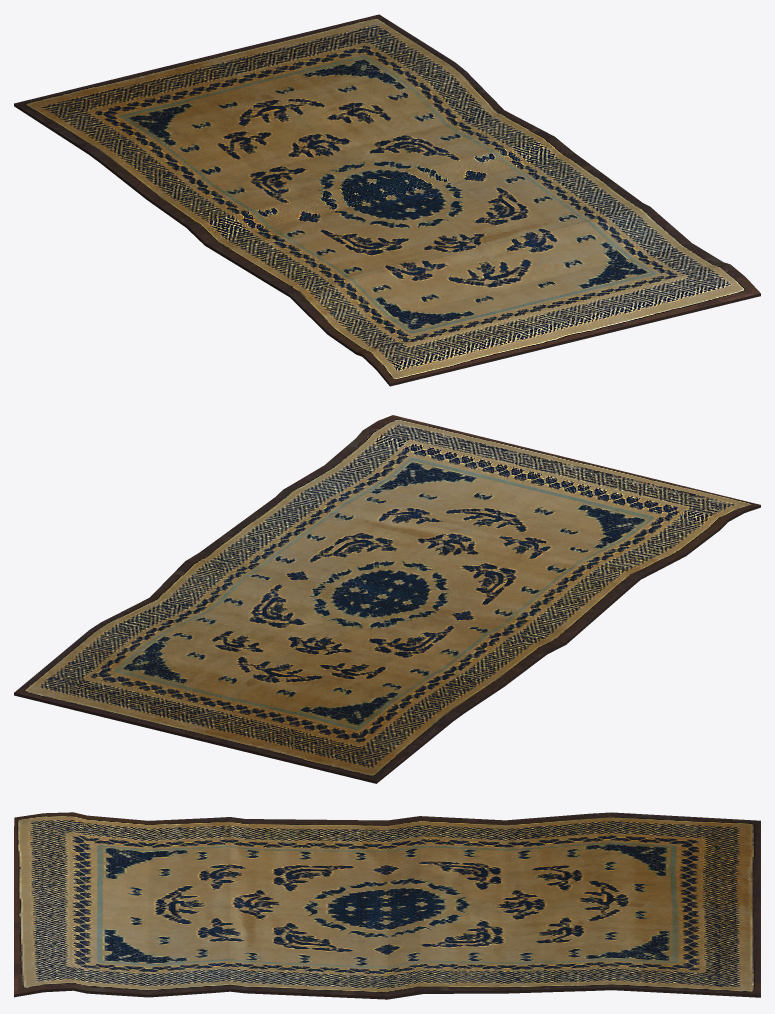
The model's file is Rug_1_JBischer.fbx.
3 views of the same model, one above another, from view 1: azimuth 30°, elevation 25°; view 2: azimuth 150°, elevation 25°; view 3: azimuth 270°, elevation 25° (orthographic). The views are drawn at different scales.
Visible parts, largest first — view 1: Cylinder.001; view 2: Cylinder.001; view 3: Cylinder.001.
Boxes of the visible parts, x1,y1,x2,y2 form: Cylinder.001: [14, 14, 760, 386]; Cylinder.001: [14, 415, 760, 783]; Cylinder.001: [14, 812, 760, 999].
Size of the model in its own units: 697 by 18.54 by 1228.
